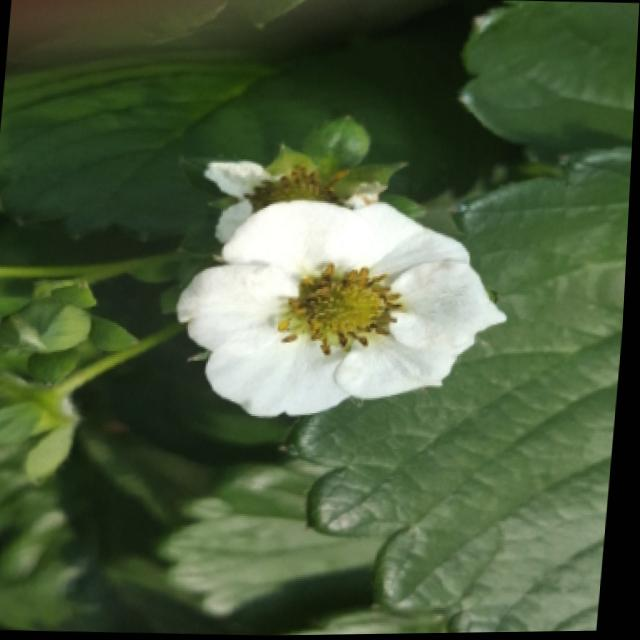Blossom Blight: (276, 258, 414, 361)
